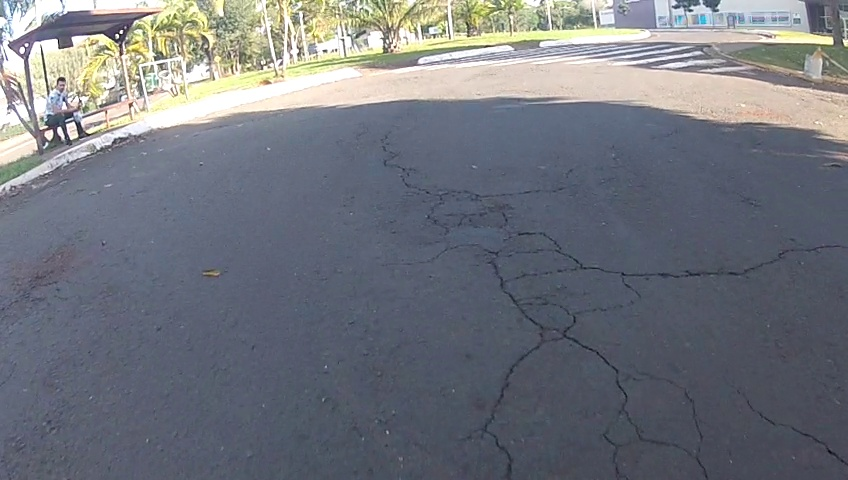TRF: (372, 144, 835, 480)
